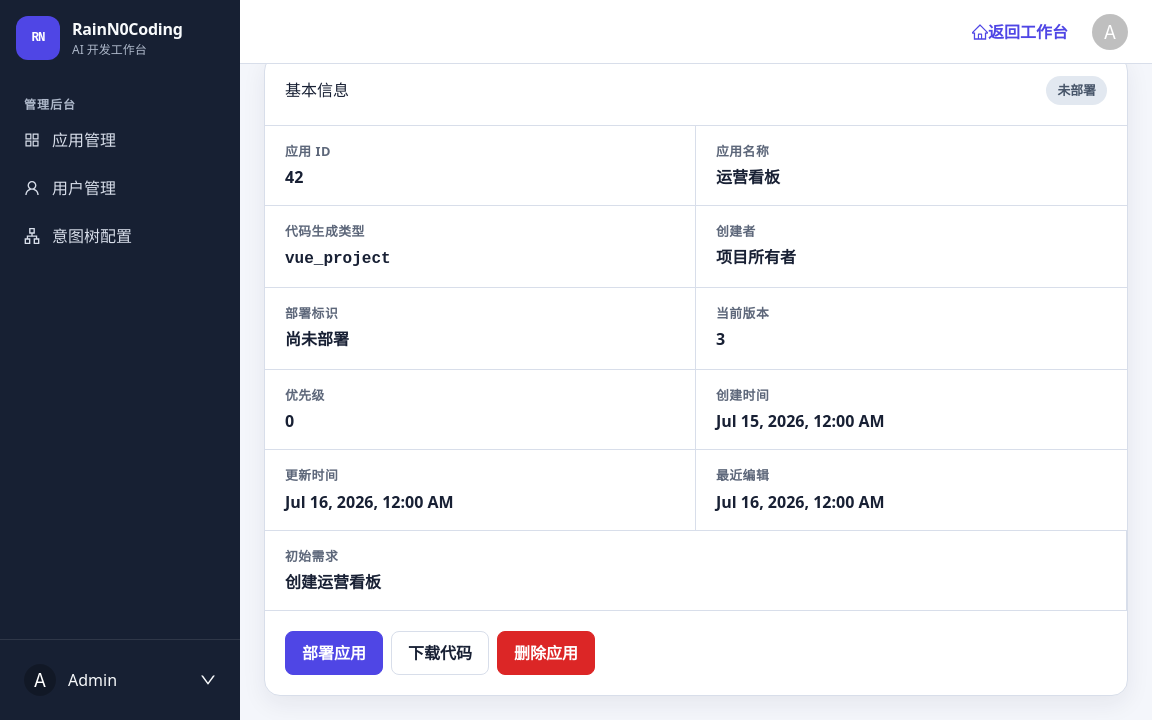
Test: AppDetailAdmin › invalidates an in-flight deployment when the route changes
(page scrolled)
Click the button "部署应用" at {"x": 334, "y": 653}, box [285, 631, 383, 675]
(page scrolled)
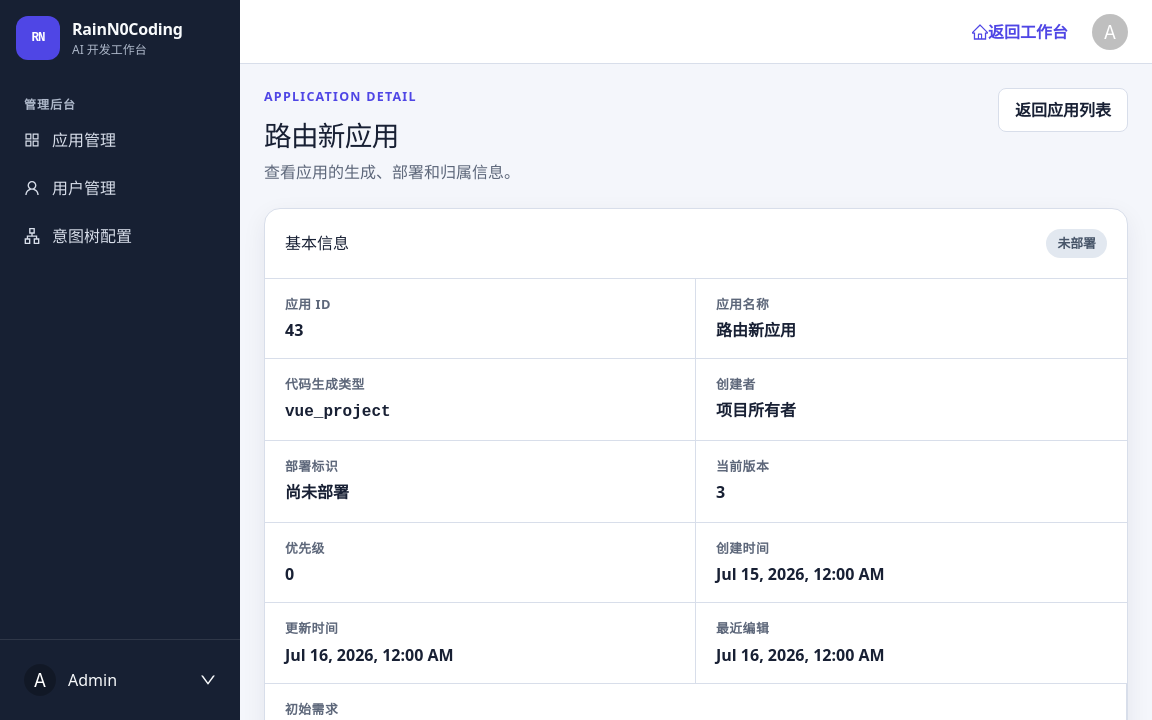
Now the heading "路由新应用" is shown, box [264, 116, 399, 154]
